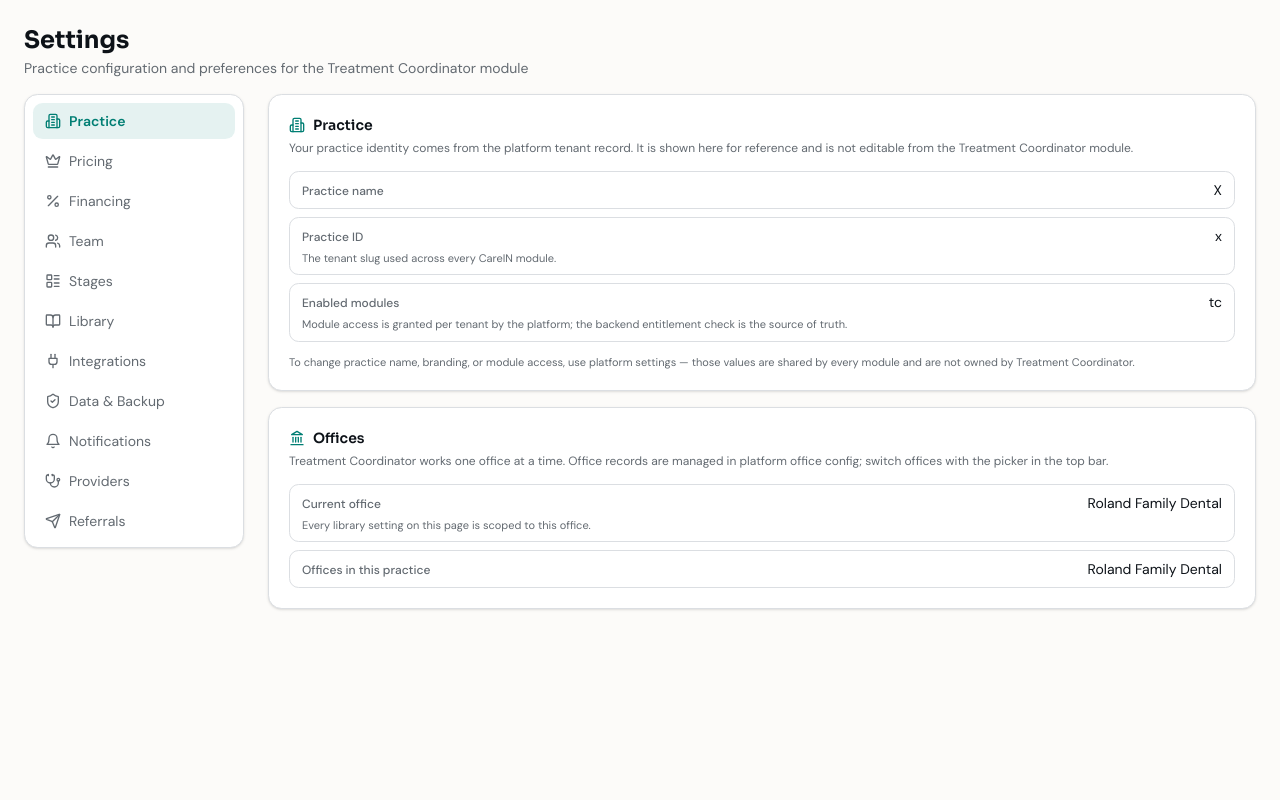
Scenario: 3: the Referrals section is dark until /status says on › present, last in the nav, when on — and it opens the directory
The width and height of the screenshot is (1280, 800).
Click the button "Referrals": (134, 521) [33, 503, 235, 539]
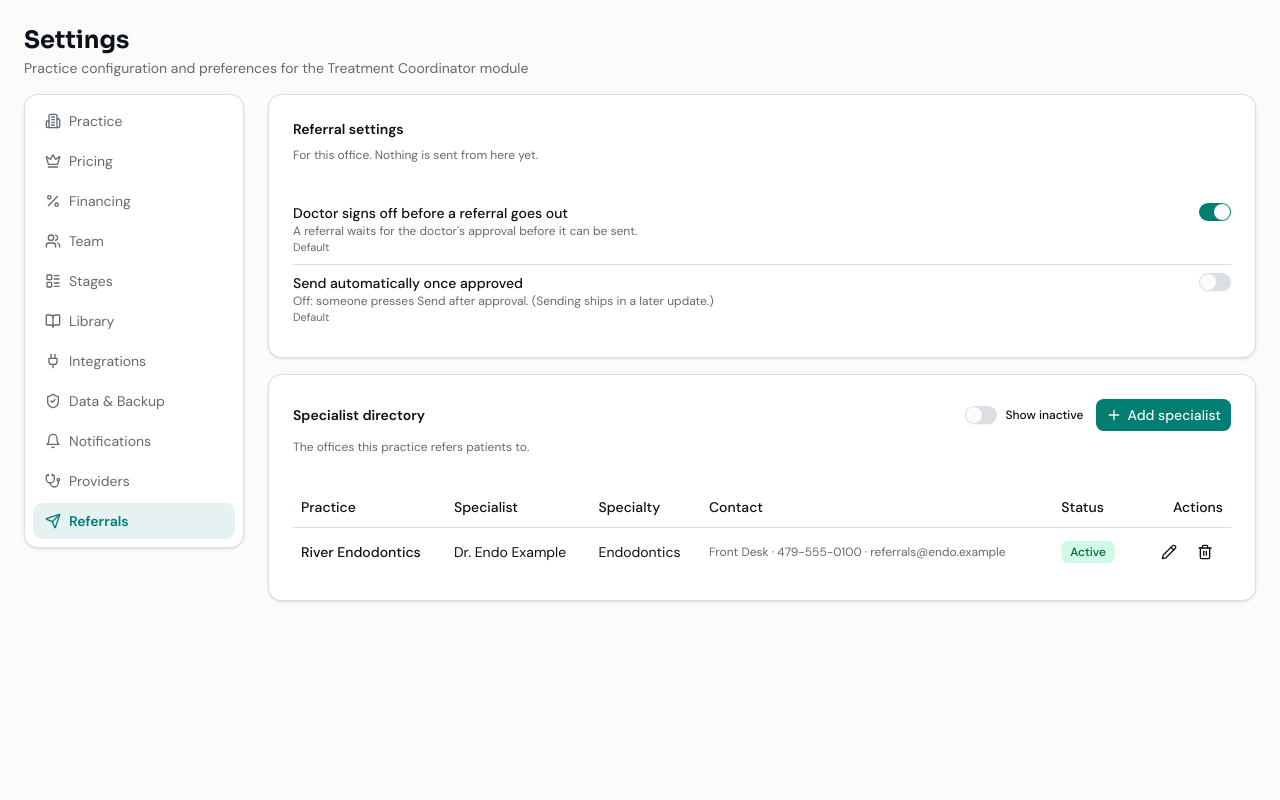
Expected: the text "River Endodontics" is shown, [293, 527, 446, 576]
